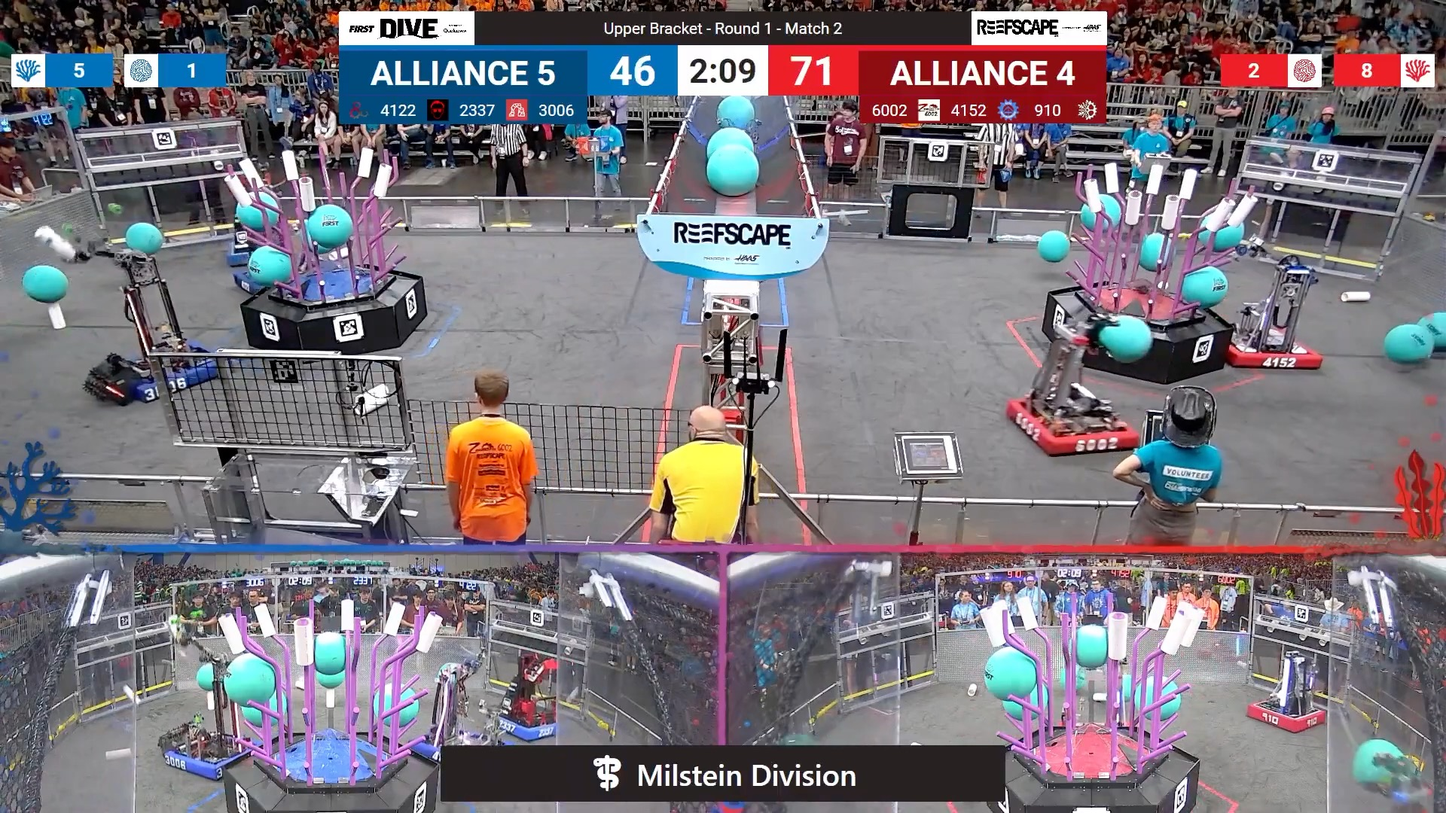bumpers: (999, 392, 1144, 461), (88, 346, 229, 402), (154, 725, 267, 784), (1216, 323, 1328, 375), (1240, 697, 1334, 735), (490, 711, 569, 744)
